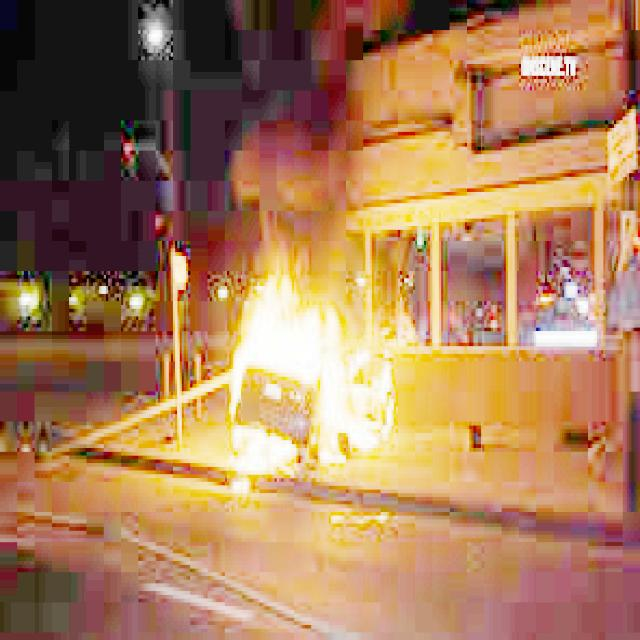api: (222, 261, 414, 487)
